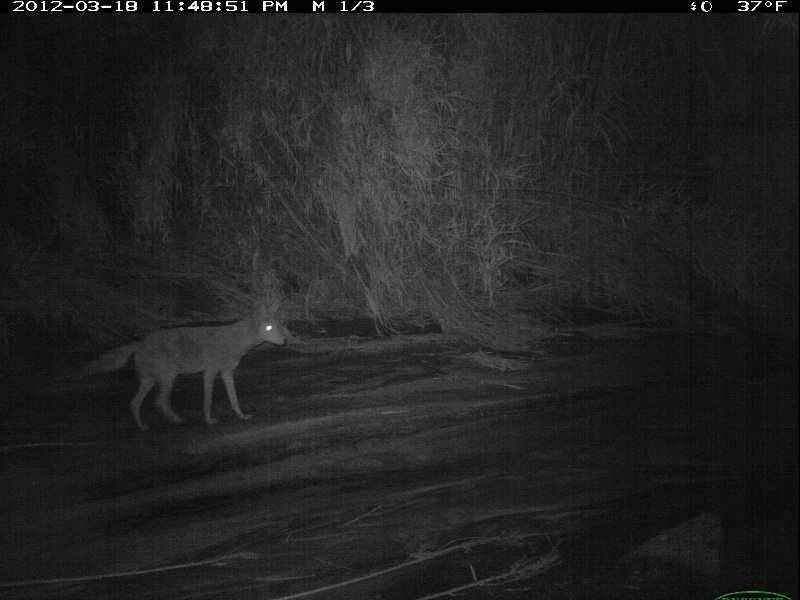coyote: (85, 298, 289, 435)
